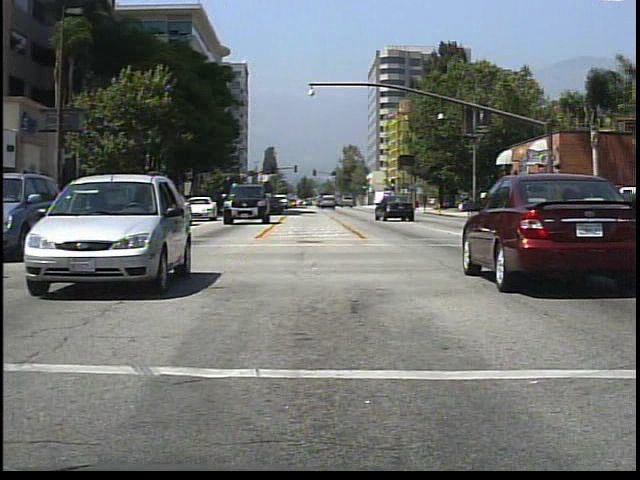person: (563, 189, 583, 234), (516, 190, 534, 227)
